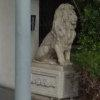Statue: (36, 3, 85, 77)
